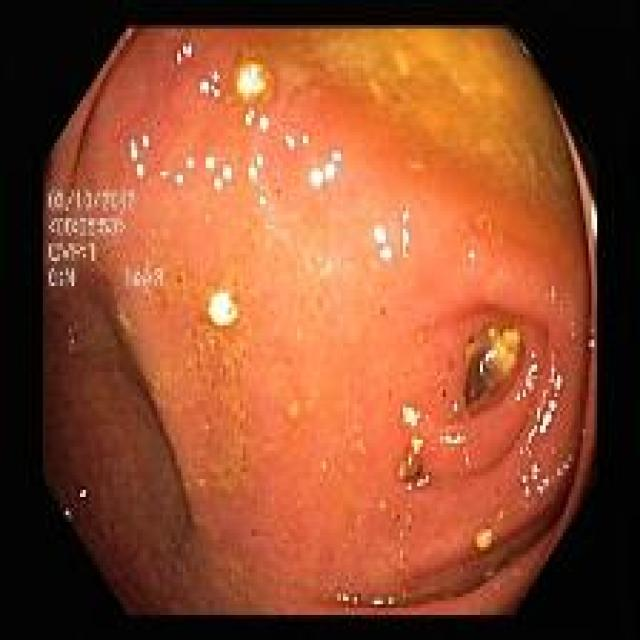ulcerative-colitis: (44, 28, 596, 614)
